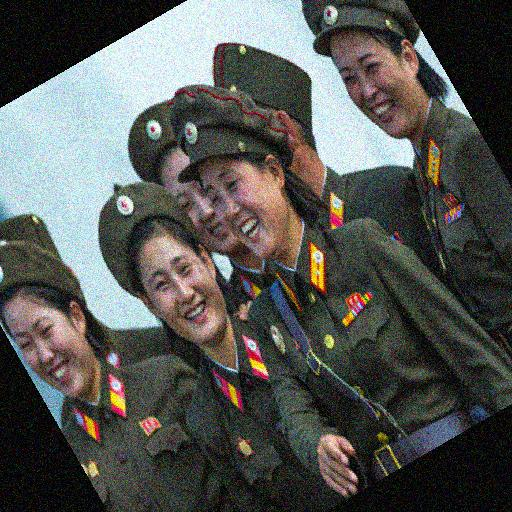north army: (4, 13, 507, 435)
